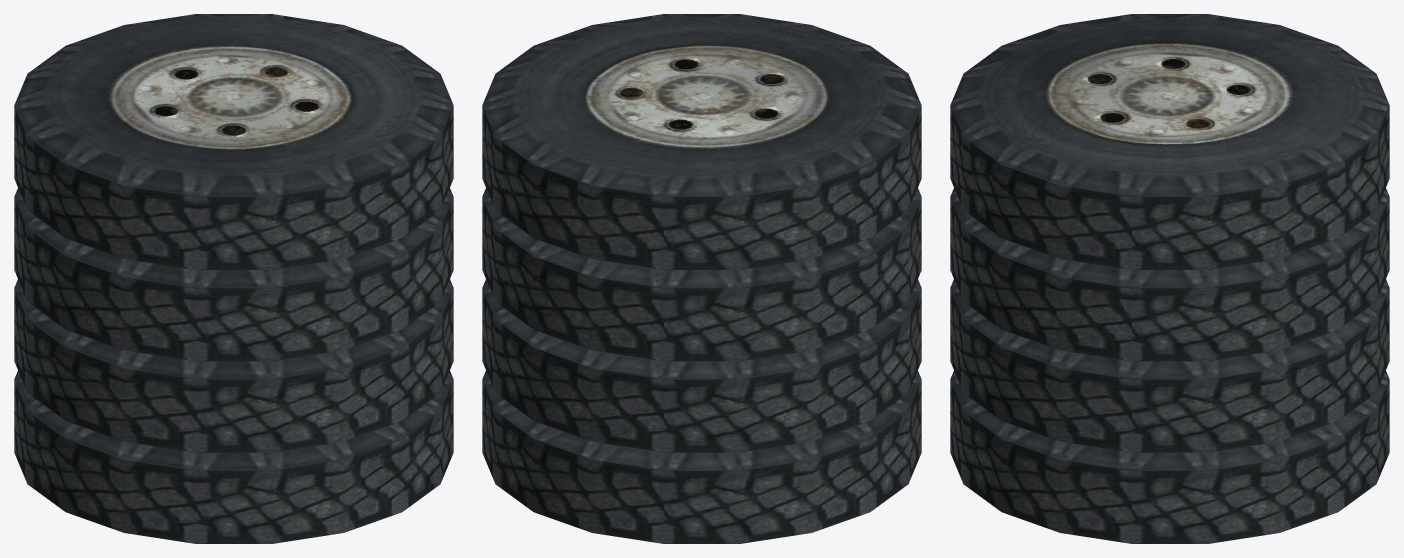
Rendered from Vehicle_Tire03b.FBX.
The picture shows the model from 3 angles, left to right: view 1: azimuth 30°, elevation 25°; view 2: azimuth 150°, elevation 25°; view 3: azimuth 270°, elevation 25°; orthographic projection.
Visible parts, largest first — view 1: Vehicle_Tire03b; view 2: Vehicle_Tire03b; view 3: Vehicle_Tire03b.
Part boxes in pixels (x1,y1,x2,y2): Vehicle_Tire03b: (14,14,453,543); Vehicle_Tire03b: (482,14,921,543); Vehicle_Tire03b: (950,14,1389,543).
Size of the model in its own units: 50.19 by 46.74 by 50.96.
